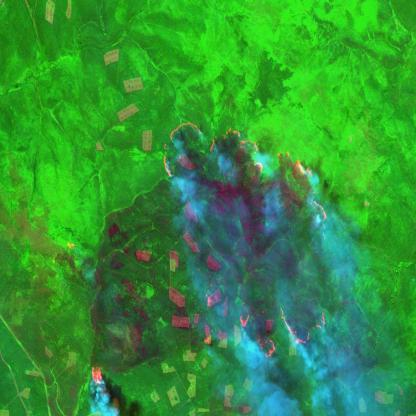fire: (158, 113, 332, 231), (231, 302, 330, 369), (85, 362, 112, 398)
